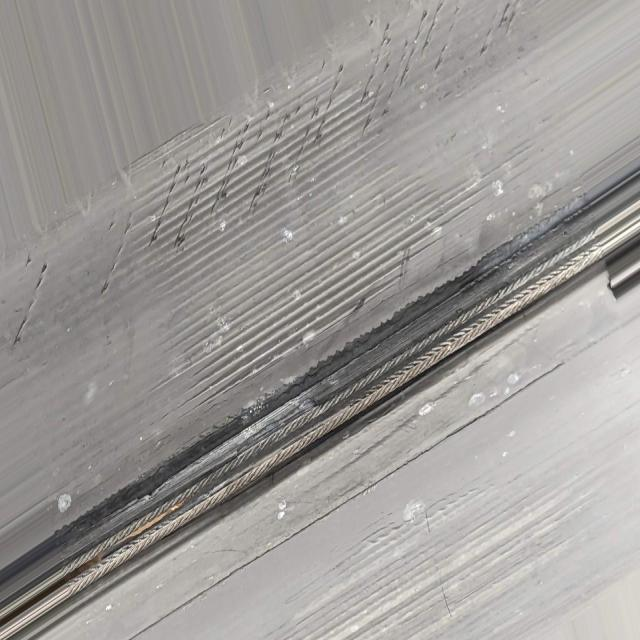Tear: (42, 0, 521, 347)
impact damage: (60, 213, 606, 605), (171, 123, 520, 398)
